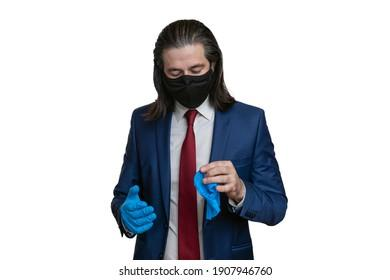gloves: (119, 184, 157, 233)
